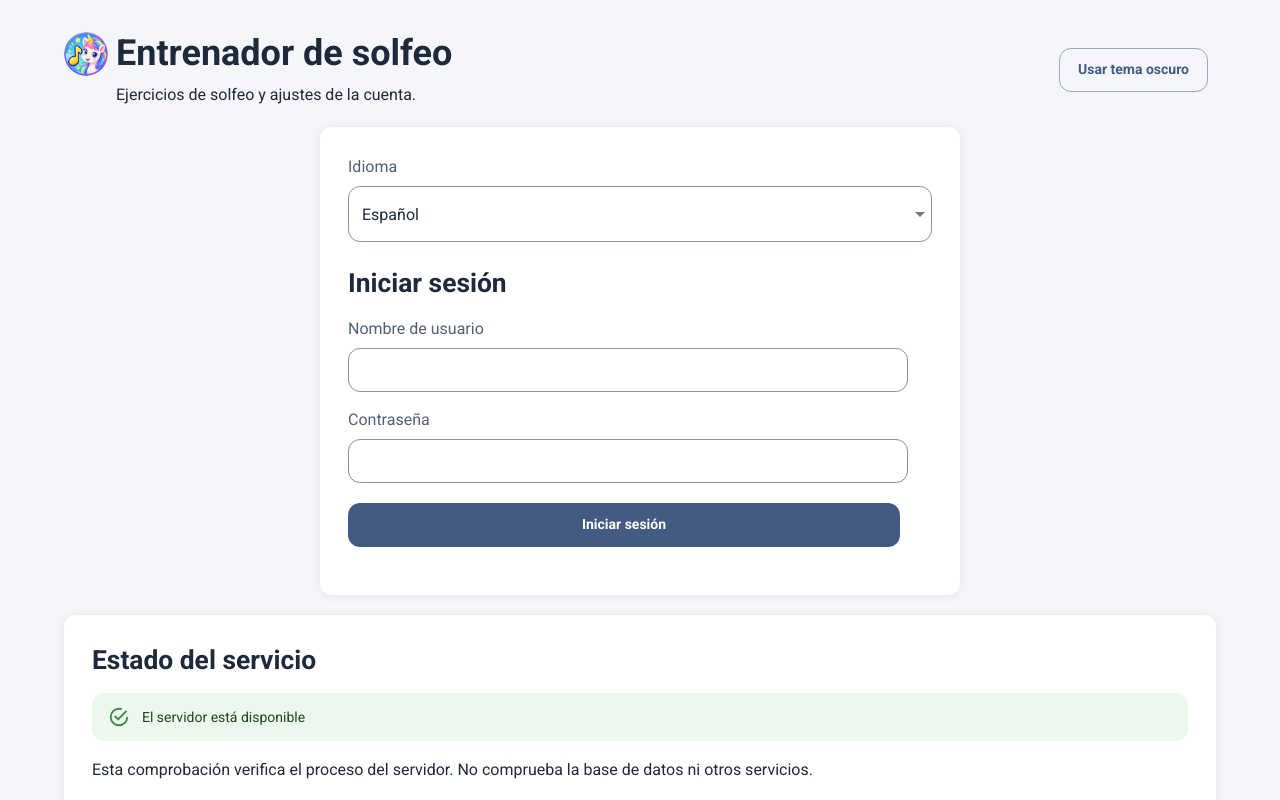
Test case: provides a localized circular game shortcut in es
Hover over the link named "Jugar a Adivina la nota" at (86, 54), box 64,32 -> 108,76
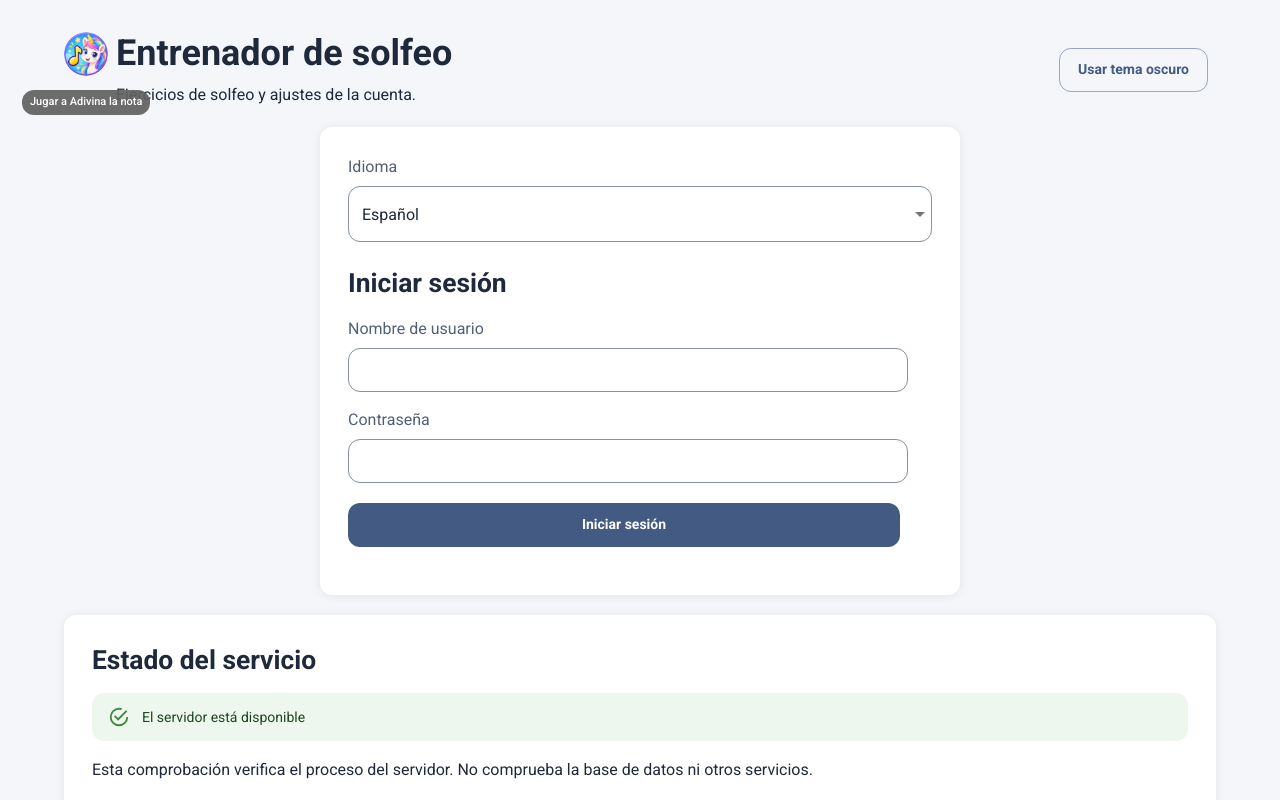
expect the tooltip reads "Jugar a Adivina la nota": met, box 30,95 -> 142,108
